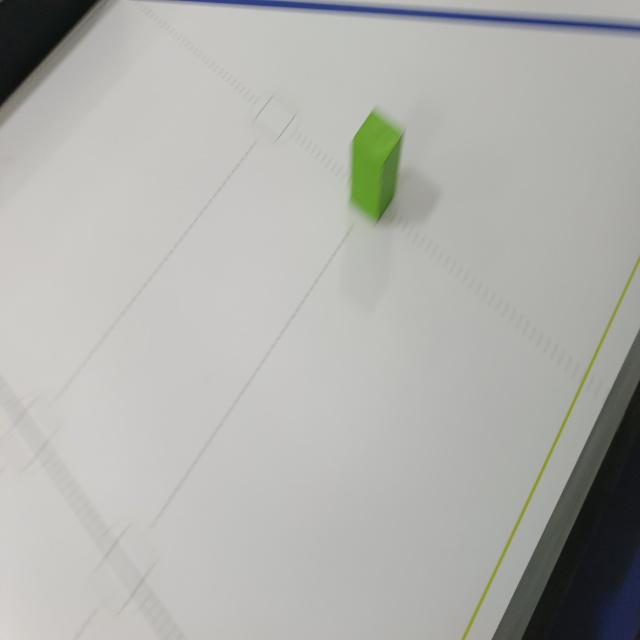blue line: (137, 0, 640, 35)
green rectangular prism: (344, 106, 411, 222)
